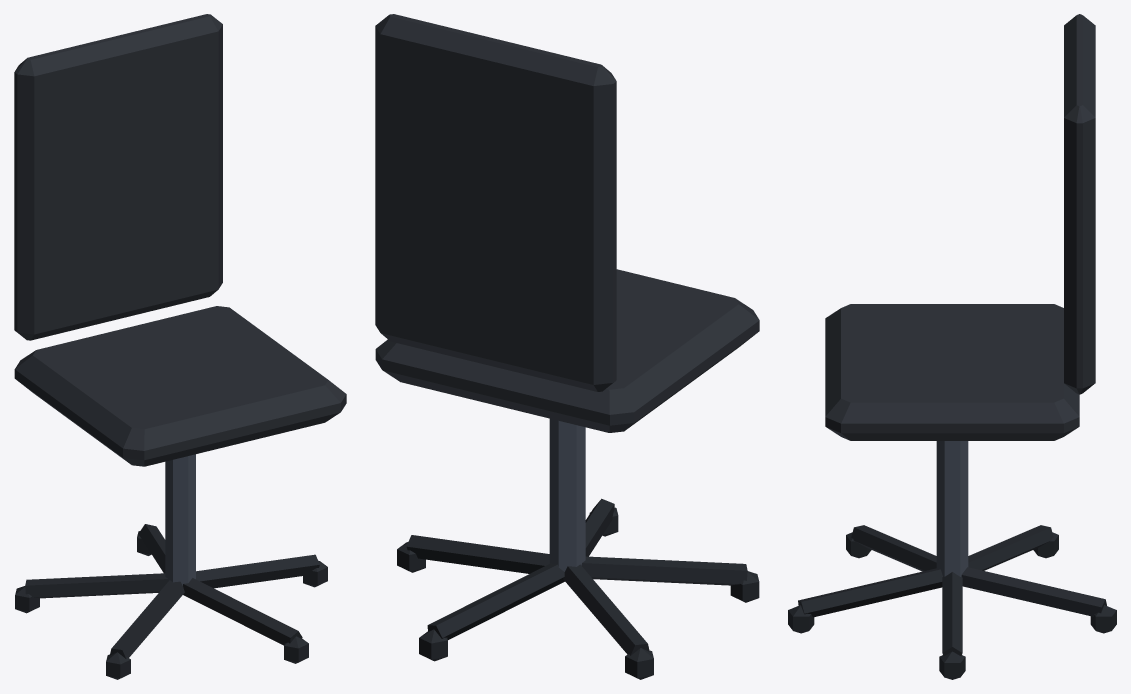
Rendered from office_chair.glb.
The picture shows the model from 3 angles, left to right: view 1: azimuth 30°, elevation 25°; view 2: azimuth 150°, elevation 25°; view 3: azimuth 270°, elevation 25°; orthographic projection. The views are drawn at different scales.
Visible parts, largest first — view 1: office_chair; view 2: office_chair; view 3: office_chair.
Boxes of the visible parts, x1,y1,x2,y2 form: office_chair: (14, 14, 346, 679); office_chair: (375, 14, 759, 679); office_chair: (788, 14, 1116, 679).
Size of the model in its own units: 0.5897 by 1.15 by 0.6201.
